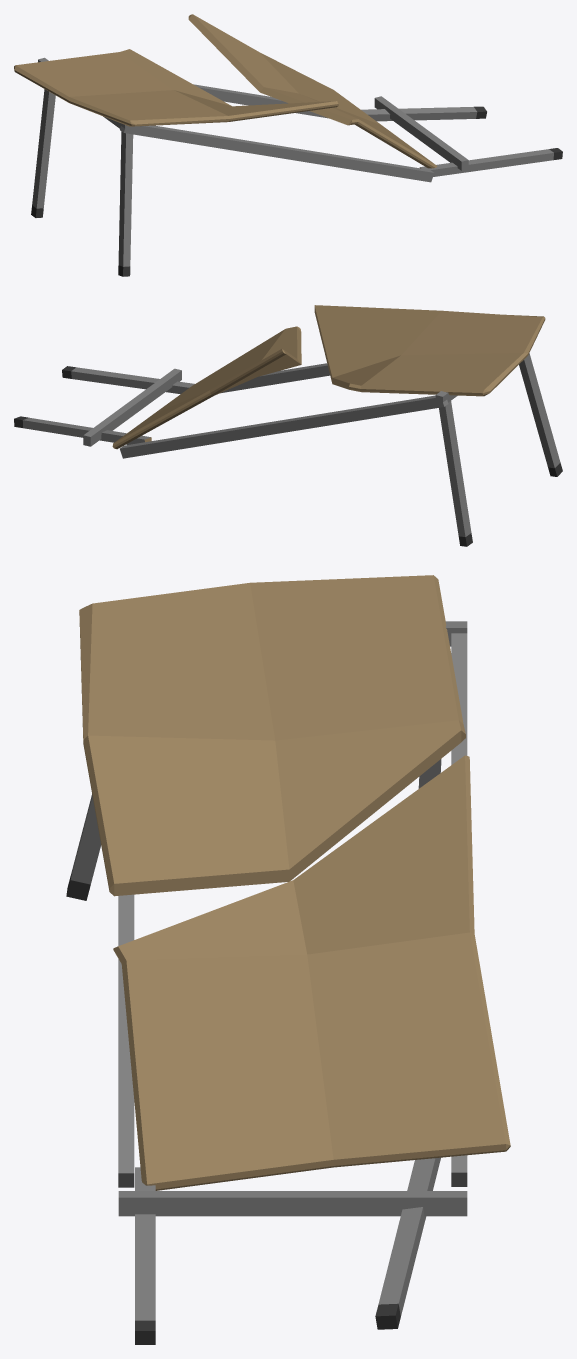
The model's file is model_desk_broken.fbx.
3 views of the same model, one above another, from view 1: azimuth 30°, elevation 25°; view 2: azimuth 150°, elevation 25°; view 3: azimuth 270°, elevation 25° (orthographic). The views are drawn at different scales.
Parts seen in each view (by area): view 1: model_desk_broken; view 2: model_desk_broken; view 3: model_desk_broken.
Part boxes in pixels (x1,y1,x2,y2): model_desk_broken: (14, 14, 562, 276); model_desk_broken: (14, 305, 562, 546); model_desk_broken: (66, 575, 510, 1344).
Size of the model in its own units: 443 by 137 by 179.
1 material, 1 textured.
